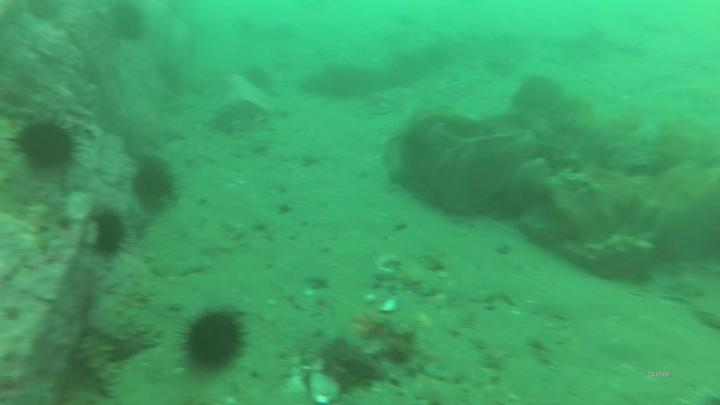echinus: (171, 301, 257, 381), (5, 115, 88, 175), (123, 150, 181, 211), (86, 205, 146, 262), (109, 1, 145, 44)
holothurian: (94, 309, 166, 361), (70, 337, 120, 402)
